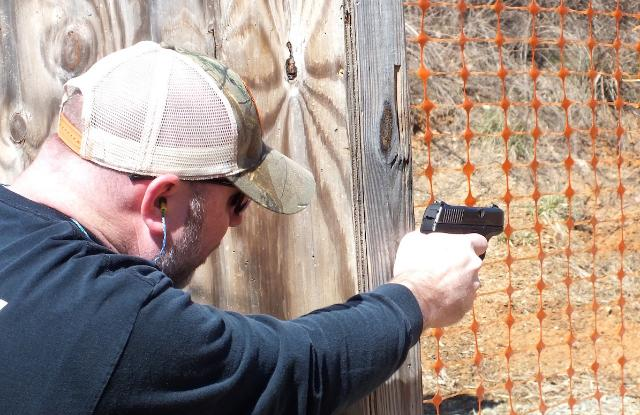handgun: (416, 196, 508, 262)
